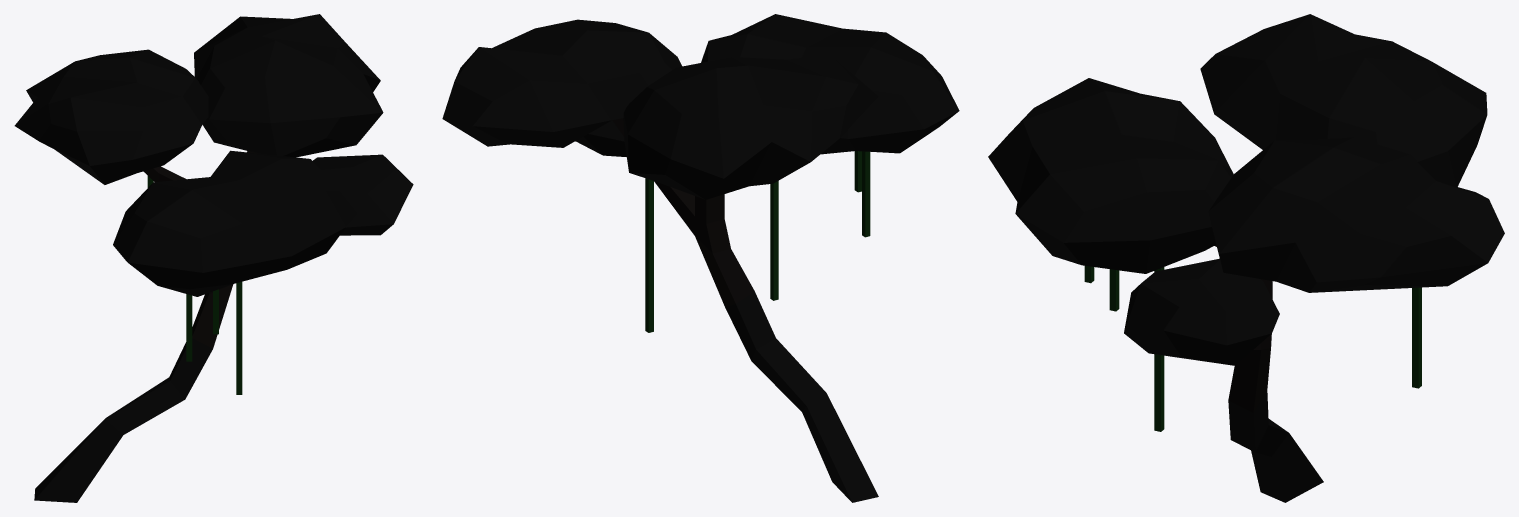
Rendered from ArbreBlocking3.fbx.
3 views of the same model, side by side, from view 1: azimuth 30°, elevation 25°; view 2: azimuth 150°, elevation 25°; view 3: azimuth 270°, elevation 25° (orthographic). The views are drawn at different scales.
Parts seen in each view (by area): view 1: ArbreBlocking_3; view 2: ArbreBlocking_3; view 3: ArbreBlocking_3.
Part boxes in pixels (x1,y1,x2,y2): ArbreBlocking_3: (14, 14, 413, 502); ArbreBlocking_3: (442, 14, 959, 502); ArbreBlocking_3: (988, 14, 1504, 502).
Bounding box in the file's own units: 1647 × 1735 × 1652.
